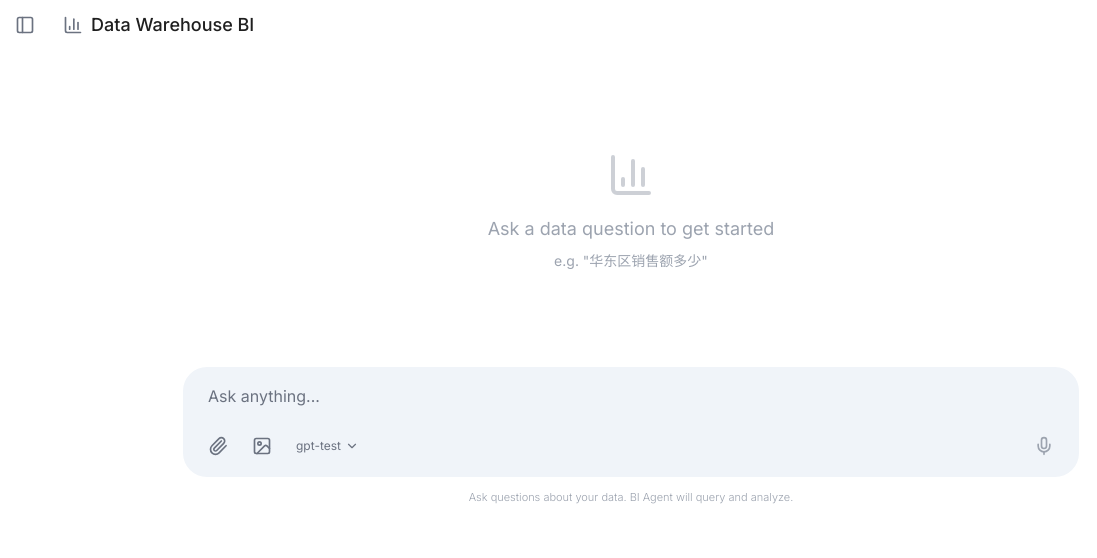
Test: BiArea › accumulates trace events and renders timeline during streaming
Expected: the text "gpt-test" is shown, top-left (296, 438), bottom-right (341, 454)
Type "华东区销售额多少" into the text box with placeholder "Ask anything...".
click(631, 396); type("华东区销售额多少")  # box top-left (184, 368), bottom-right (1078, 424)
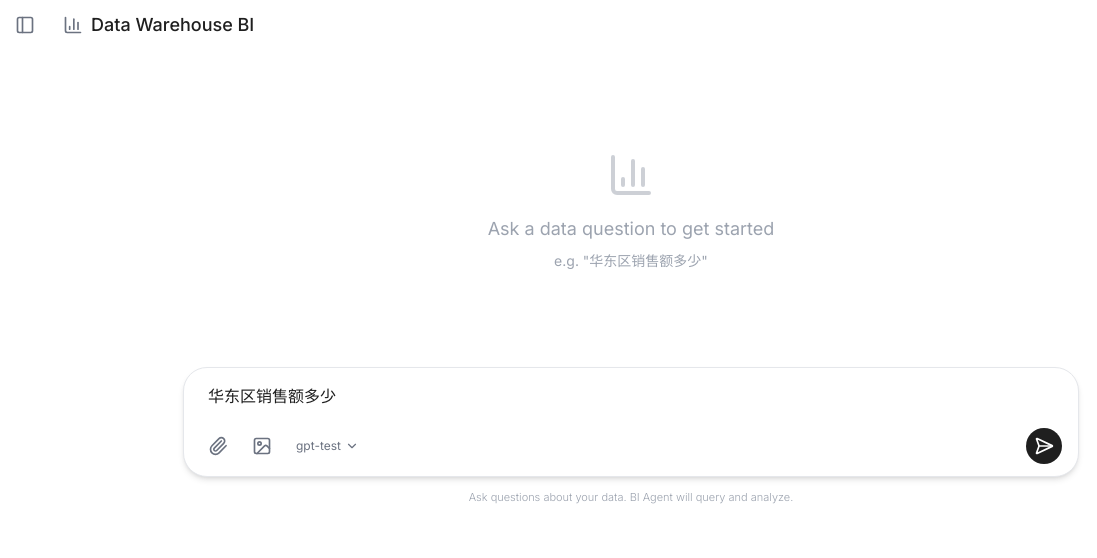
Press Enter
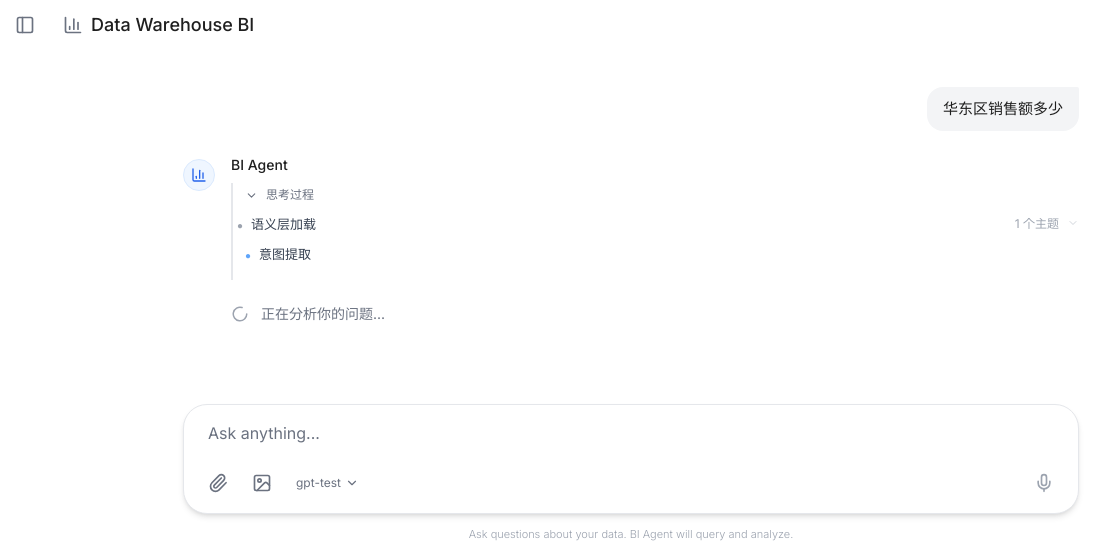
Expected: the text "语义层加载" is shown, top-left (251, 216), bottom-right (316, 232)
Expected: the text "意图提取" is shown, top-left (259, 246), bottom-right (311, 262)
